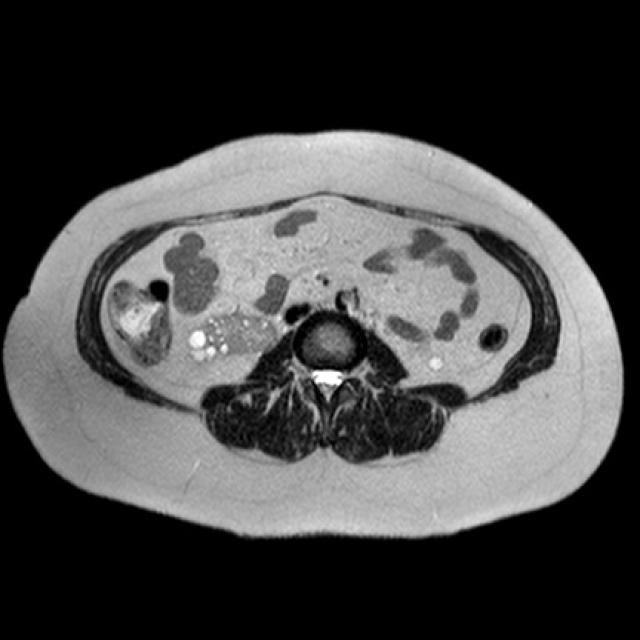sag: (188, 309, 277, 365)
sol: (416, 343, 444, 371)
